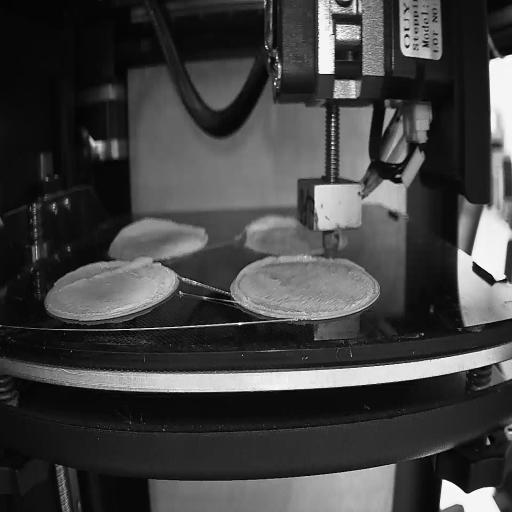over_extrusion: (233, 256, 320, 311), (59, 252, 153, 295), (110, 212, 207, 246), (242, 212, 299, 244), (334, 255, 366, 274)
